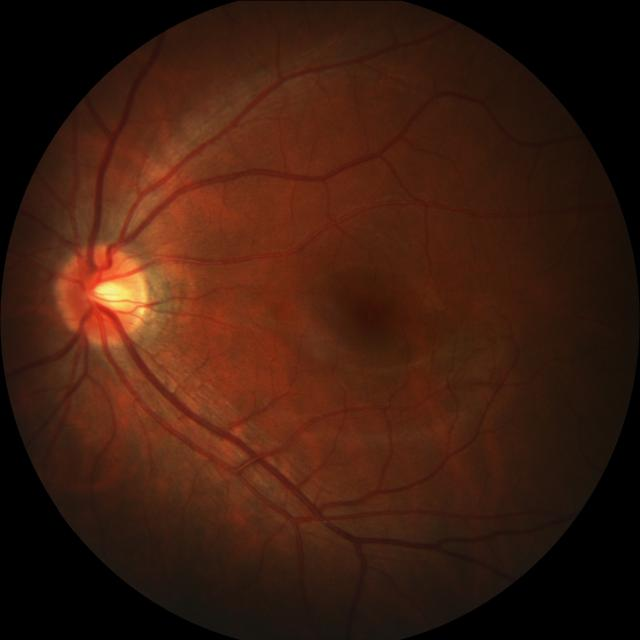OC: (87, 270, 133, 315)
OD: (58, 241, 151, 342)
